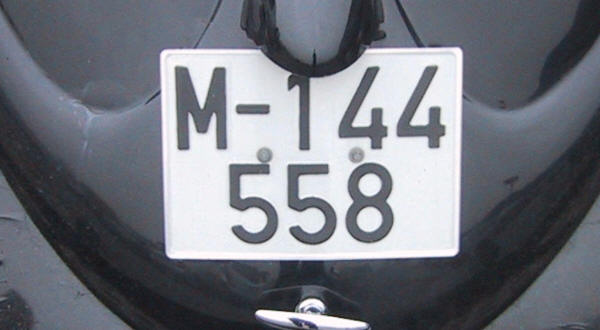license_plate: (158, 47, 463, 259)
